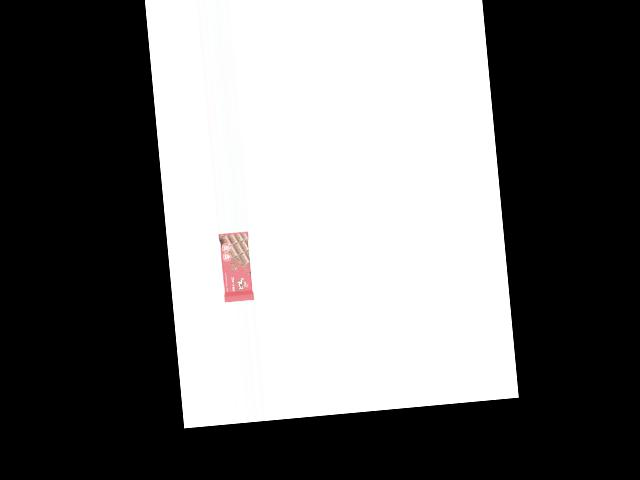chocolate: (218, 231, 254, 303)
